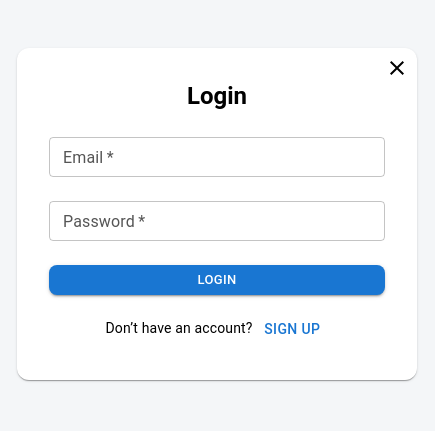
Login Component › shows error message if fields are empty
The image size is (435, 431).
# Click login without typing anything
Click the button "Login".
click(217, 280)  # box x1=49 y1=265 x2=385 y2=295
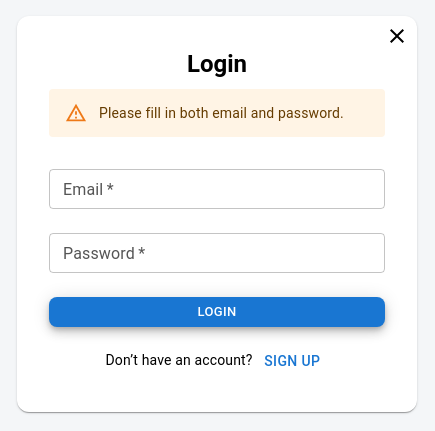
Result: the text "Please fill in both email and password." is shown at x1=99 y1=105 x2=344 y2=121
